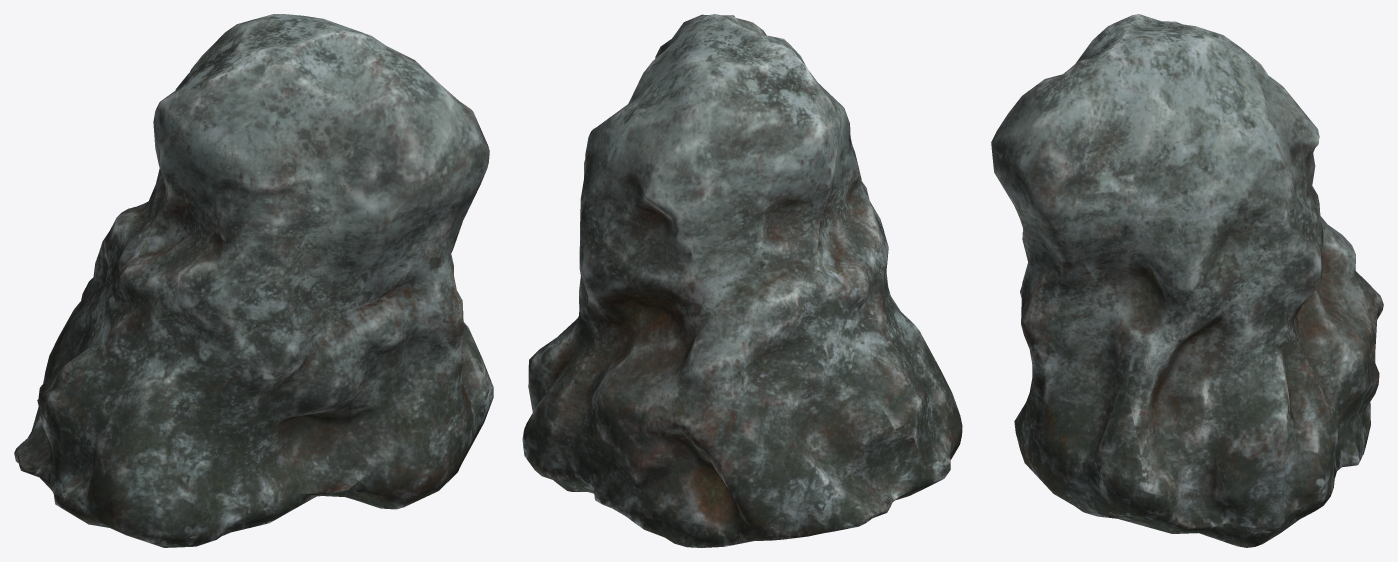
File: tall_rock.glb
3 views of the same model, side by side, from view 1: azimuth 30°, elevation 25°; view 2: azimuth 150°, elevation 25°; view 3: azimuth 270°, elevation 25° (orthographic). The views are drawn at different scales.
Visible parts, largest first — view 1: 2.001; view 2: 2.001; view 3: 2.001.
Boxes of the visible parts, left/top/right/bottom form: 2.001: left=14, top=14, right=493, bottom=547; 2.001: left=522, top=14, right=962, bottom=547; 2.001: left=991, top=14, right=1383, bottom=547.
Size of the model in its own units: 2.72 by 2.93 by 2.3.
1 material, 1 textured.
